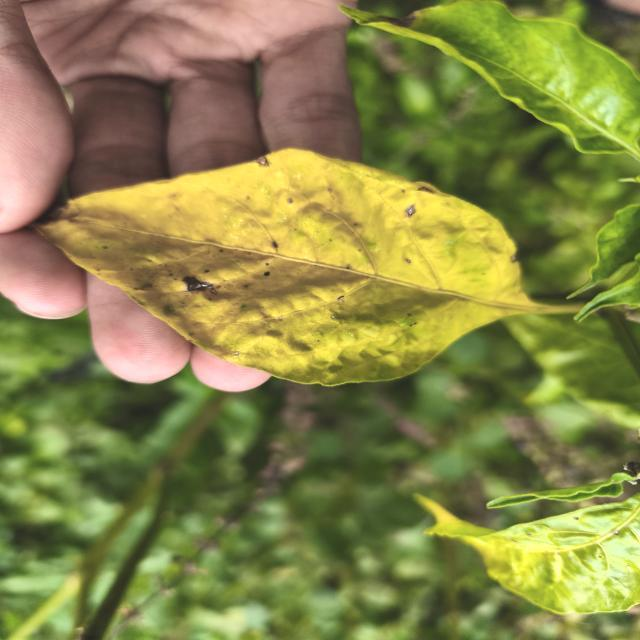Virus Kuning: (29, 147, 611, 389), (338, 0, 640, 157), (412, 489, 640, 616)
